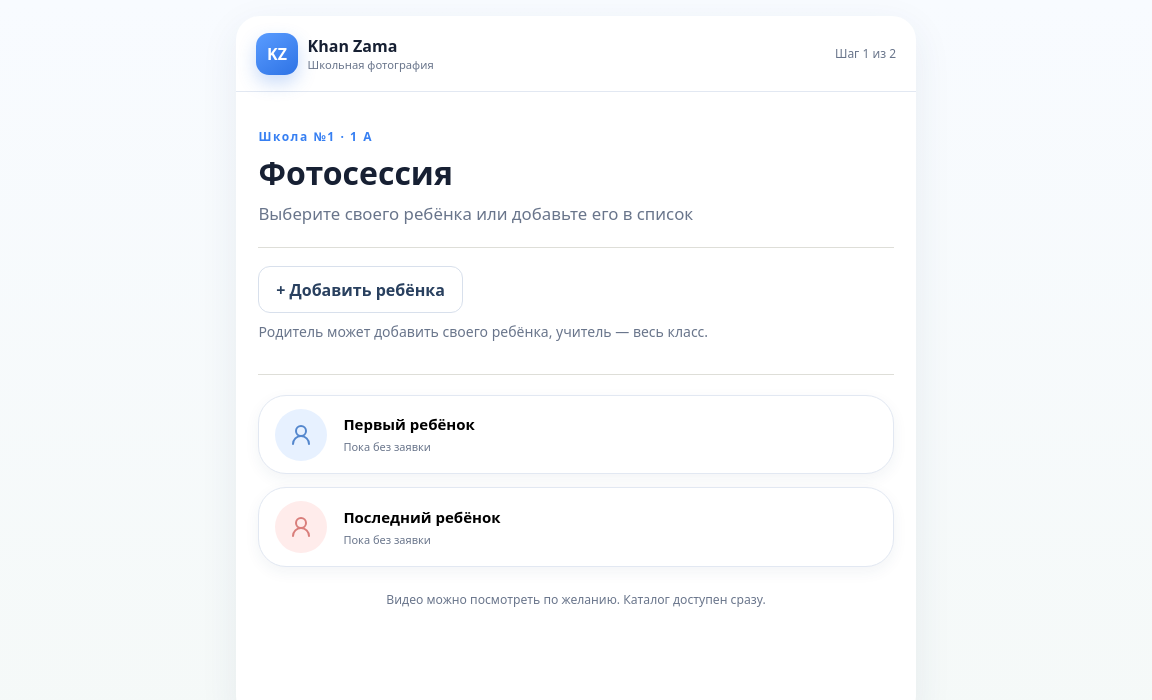
Scenario: child to catalog navigation › opens the catalog even when the intro video has not been watched
(page scrolled)
Click the button "Первый ребёнок Пока без заявки" at [301, 435], box [258,395,894,474]
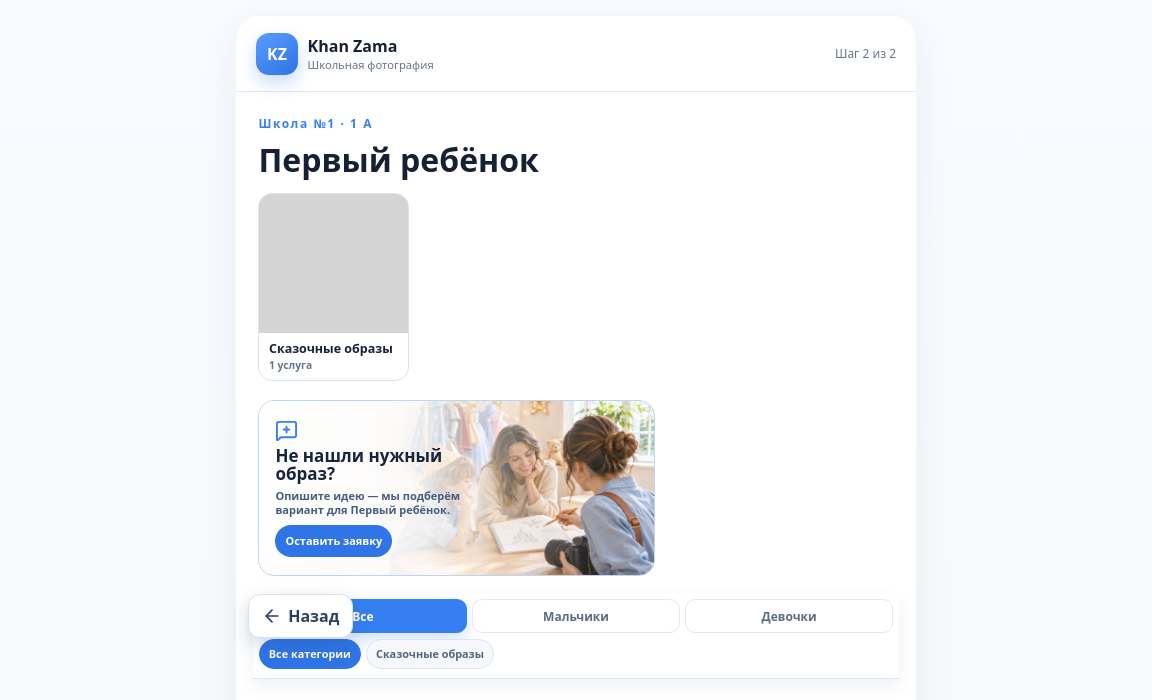
Now the button with aria-label "Назад к списку детей" is shown, box [248,594,353,638]
